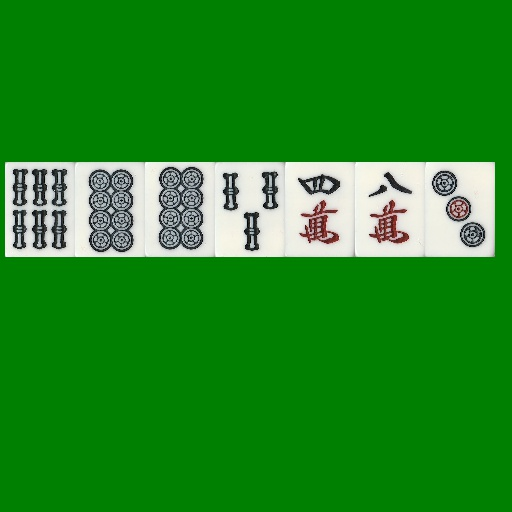3p: (425, 162, 495, 257)
3s: (215, 162, 285, 257)
4m: (285, 162, 355, 257)
6s: (5, 162, 75, 257)
8m: (355, 162, 425, 257)
8p: (75, 162, 145, 257), (145, 162, 215, 257)
